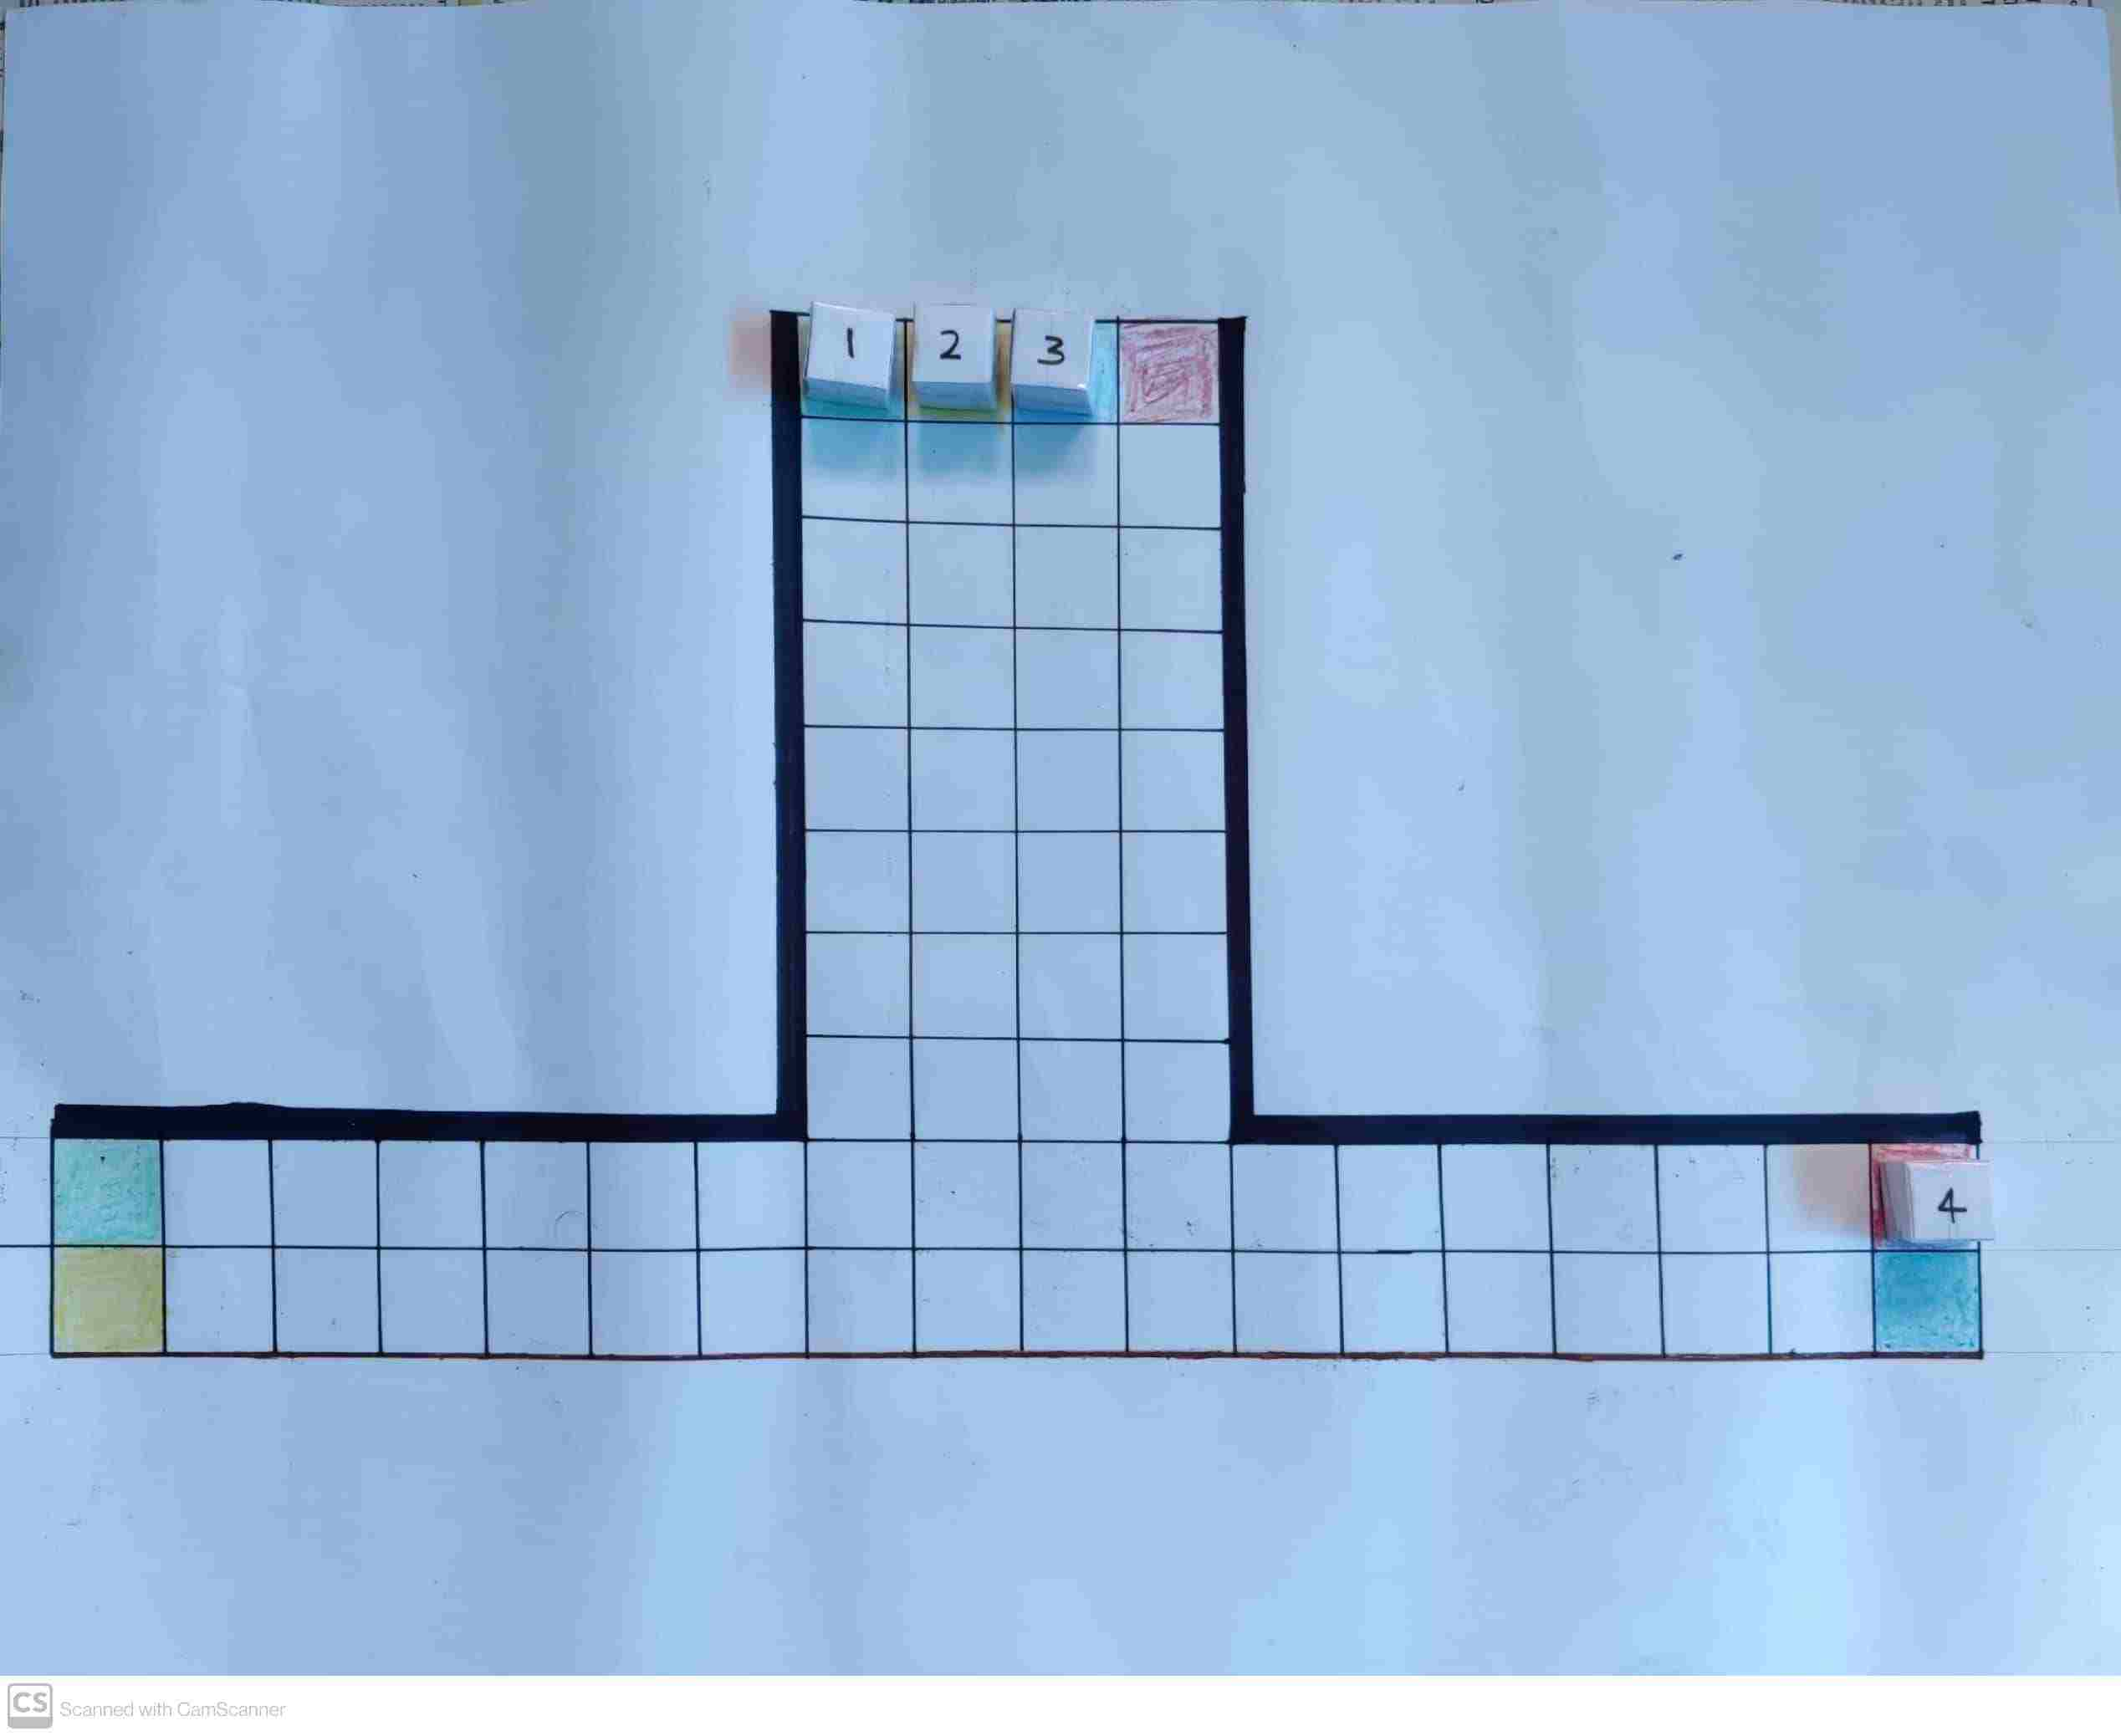arena: (51, 310, 1989, 1357)
bot: (1011, 306, 1094, 387), (1904, 1160, 1987, 1241), (810, 305, 897, 382), (916, 306, 994, 386)
